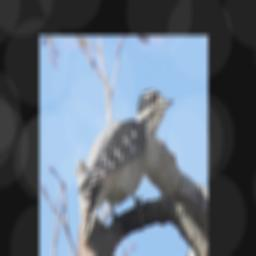Woodpecker: (77, 88, 175, 241)
